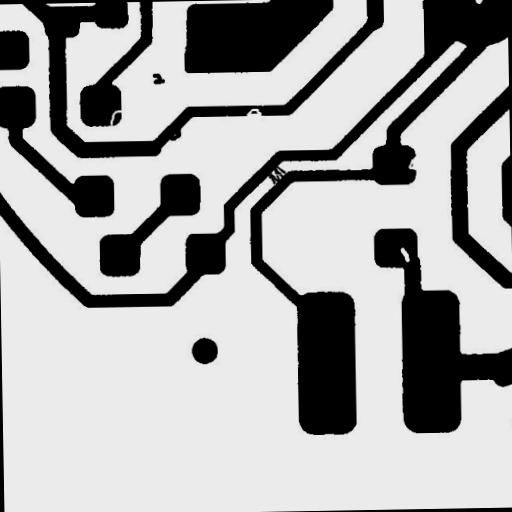copper: (145, 66, 172, 92)
mousebite: (238, 100, 269, 126), (400, 147, 426, 177)
open: (102, 102, 132, 136)
pin-hole: (392, 240, 418, 270)
short: (258, 157, 294, 192)
spur: (160, 119, 189, 148)
